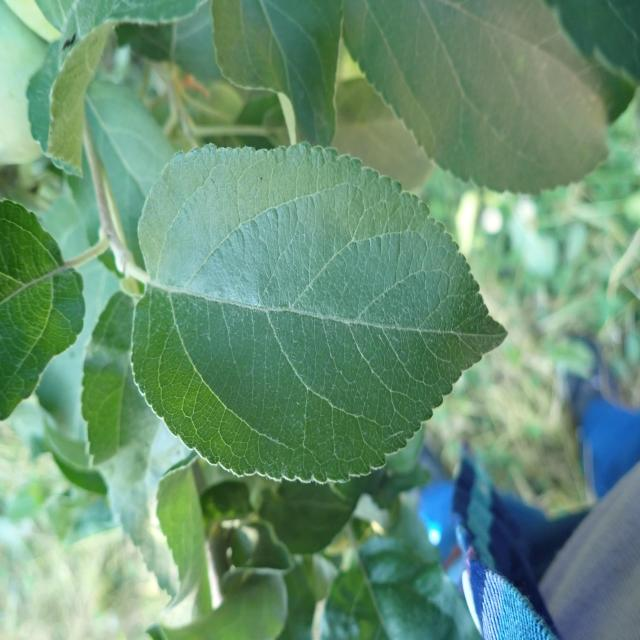healthy: (130, 142, 508, 485), (343, 0, 639, 195), (210, 0, 342, 148), (0, 197, 86, 421)
